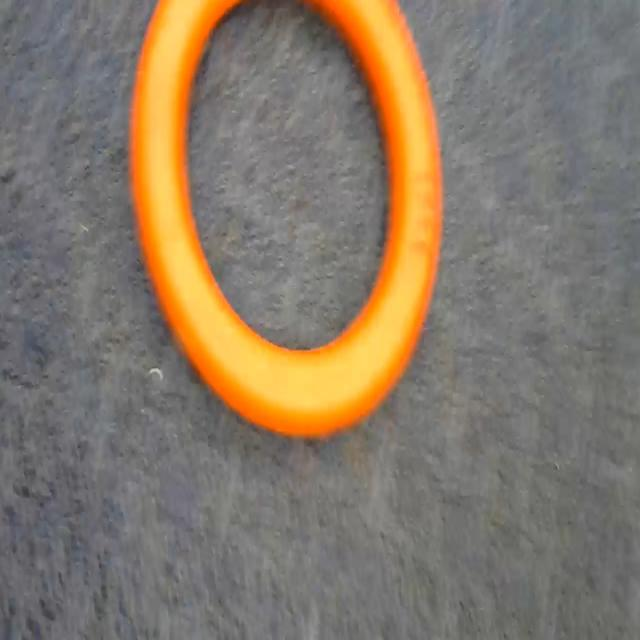note: (117, 0, 456, 465)
